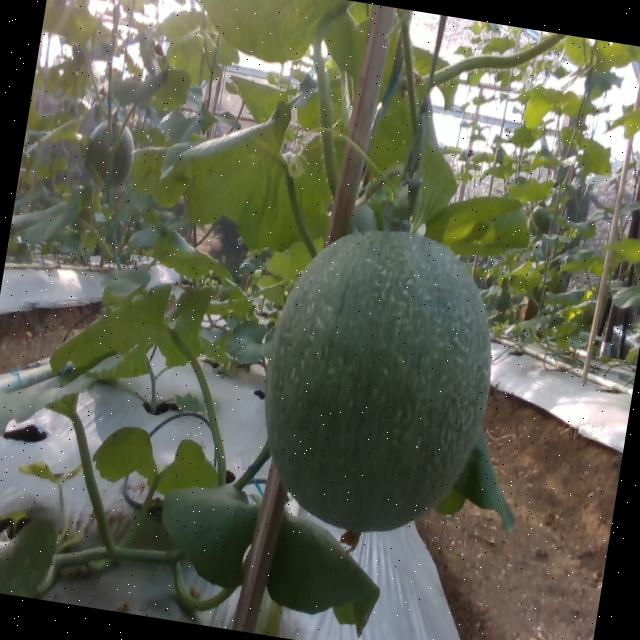melon: (266, 232, 492, 533)
